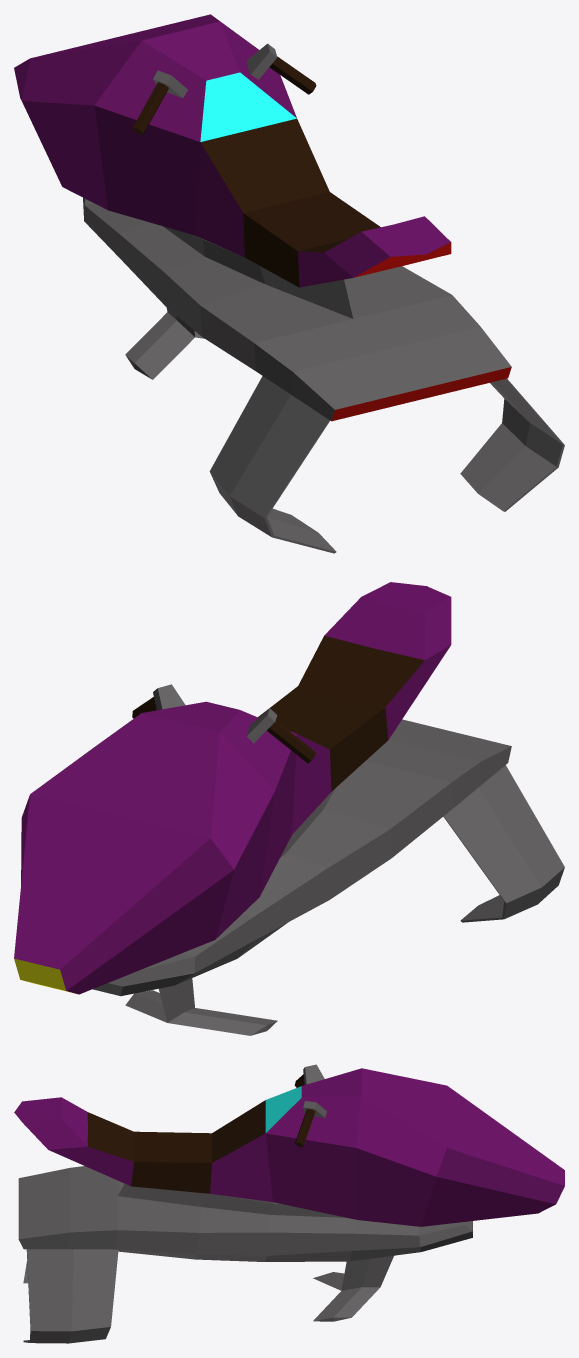
Rendered from Jetski Purple.fbx.
3 views of the same model, one above another, from view 1: azimuth 30°, elevation 25°; view 2: azimuth 150°, elevation 25°; view 3: azimuth 270°, elevation 25° (orthographic). The views are drawn at different scales.
Visible parts, largest first — view 1: body, bar, handle; view 2: body, handle, bar; view 3: body, handle, bar.
Part boxes in pixels (<box>): body: <box>14,14,564,553</box>; bar: <box>132,56,316,134</box>; handle: <box>153,43,277,97</box>; body: <box>14,582,564,1035</box>; handle: <box>153,684,277,743</box>; bar: <box>132,697,316,763</box>; body: <box>14,1068,564,1343</box>; handle: <box>303,1064,326,1117</box>; bar: <box>294,1074,315,1146</box>.
Size of the model in its own units: 56.55 by 56.53 by 122.
